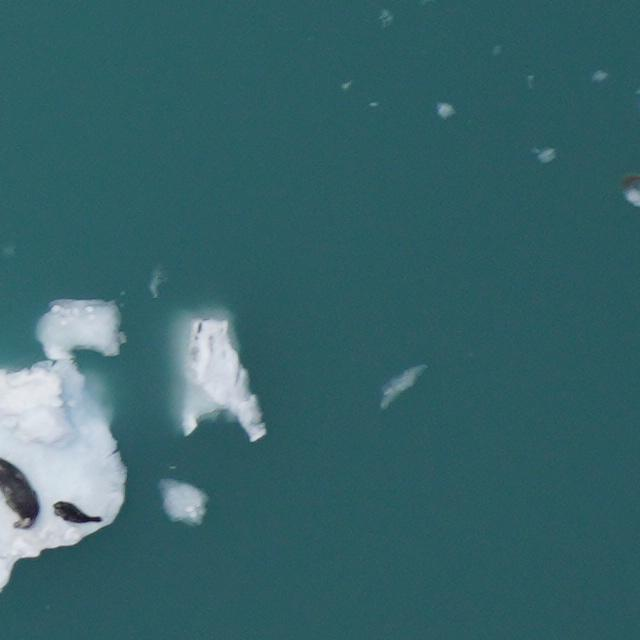seal: (0, 452, 46, 529), (50, 496, 103, 533)
